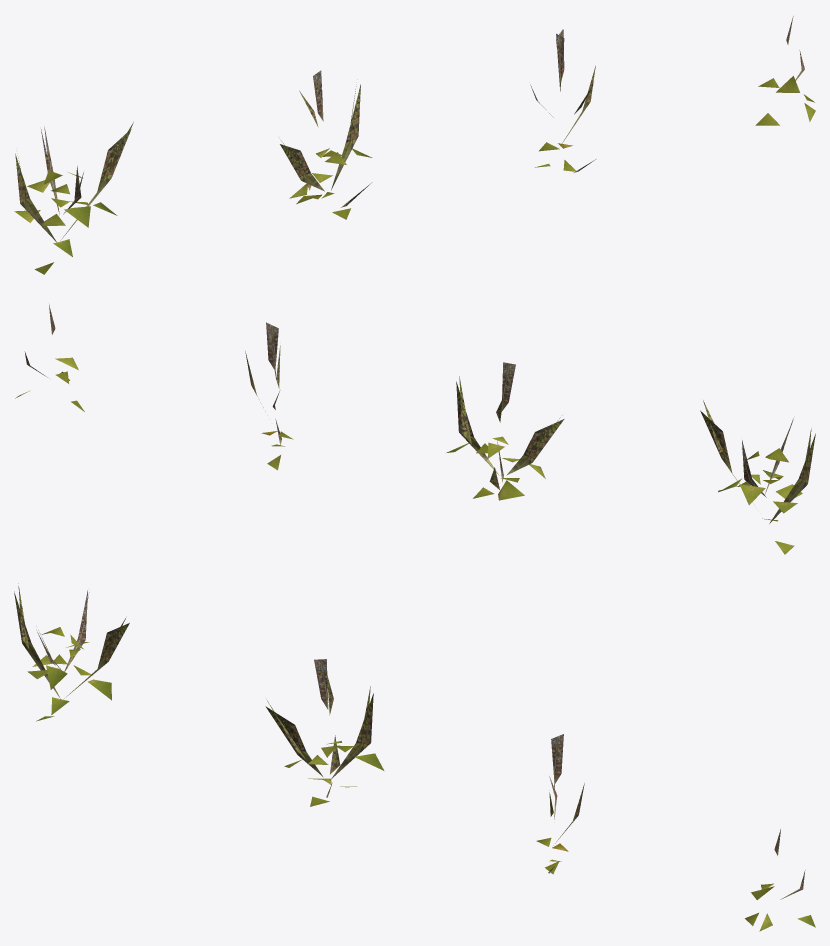
File: shrub_03.glb
3 views of the same model, one above another, from view 1: azimuth 30°, elevation 25°; view 2: azimuth 150°, elevation 25°; view 3: azimuth 330°, elevation 25° (orthographic). The views are drawn at different scales.
Visible parts, largest first — view 1: shrub_03_a; view 2: shrub_03_a; view 3: shrub_03_a.
Boxes of the visible parts, x1=… form: shrub_03_a: x1=14, y1=16, x2=815, y2=274; shrub_03_a: x1=15, y1=304, x2=815, y2=554; shrub_03_a: x1=14, y1=583, x2=815, y2=931.
Size of the model in its own units: 1.36 by 0.2646 by 0.1512.
Materials: 1 (1 with a texture image).
